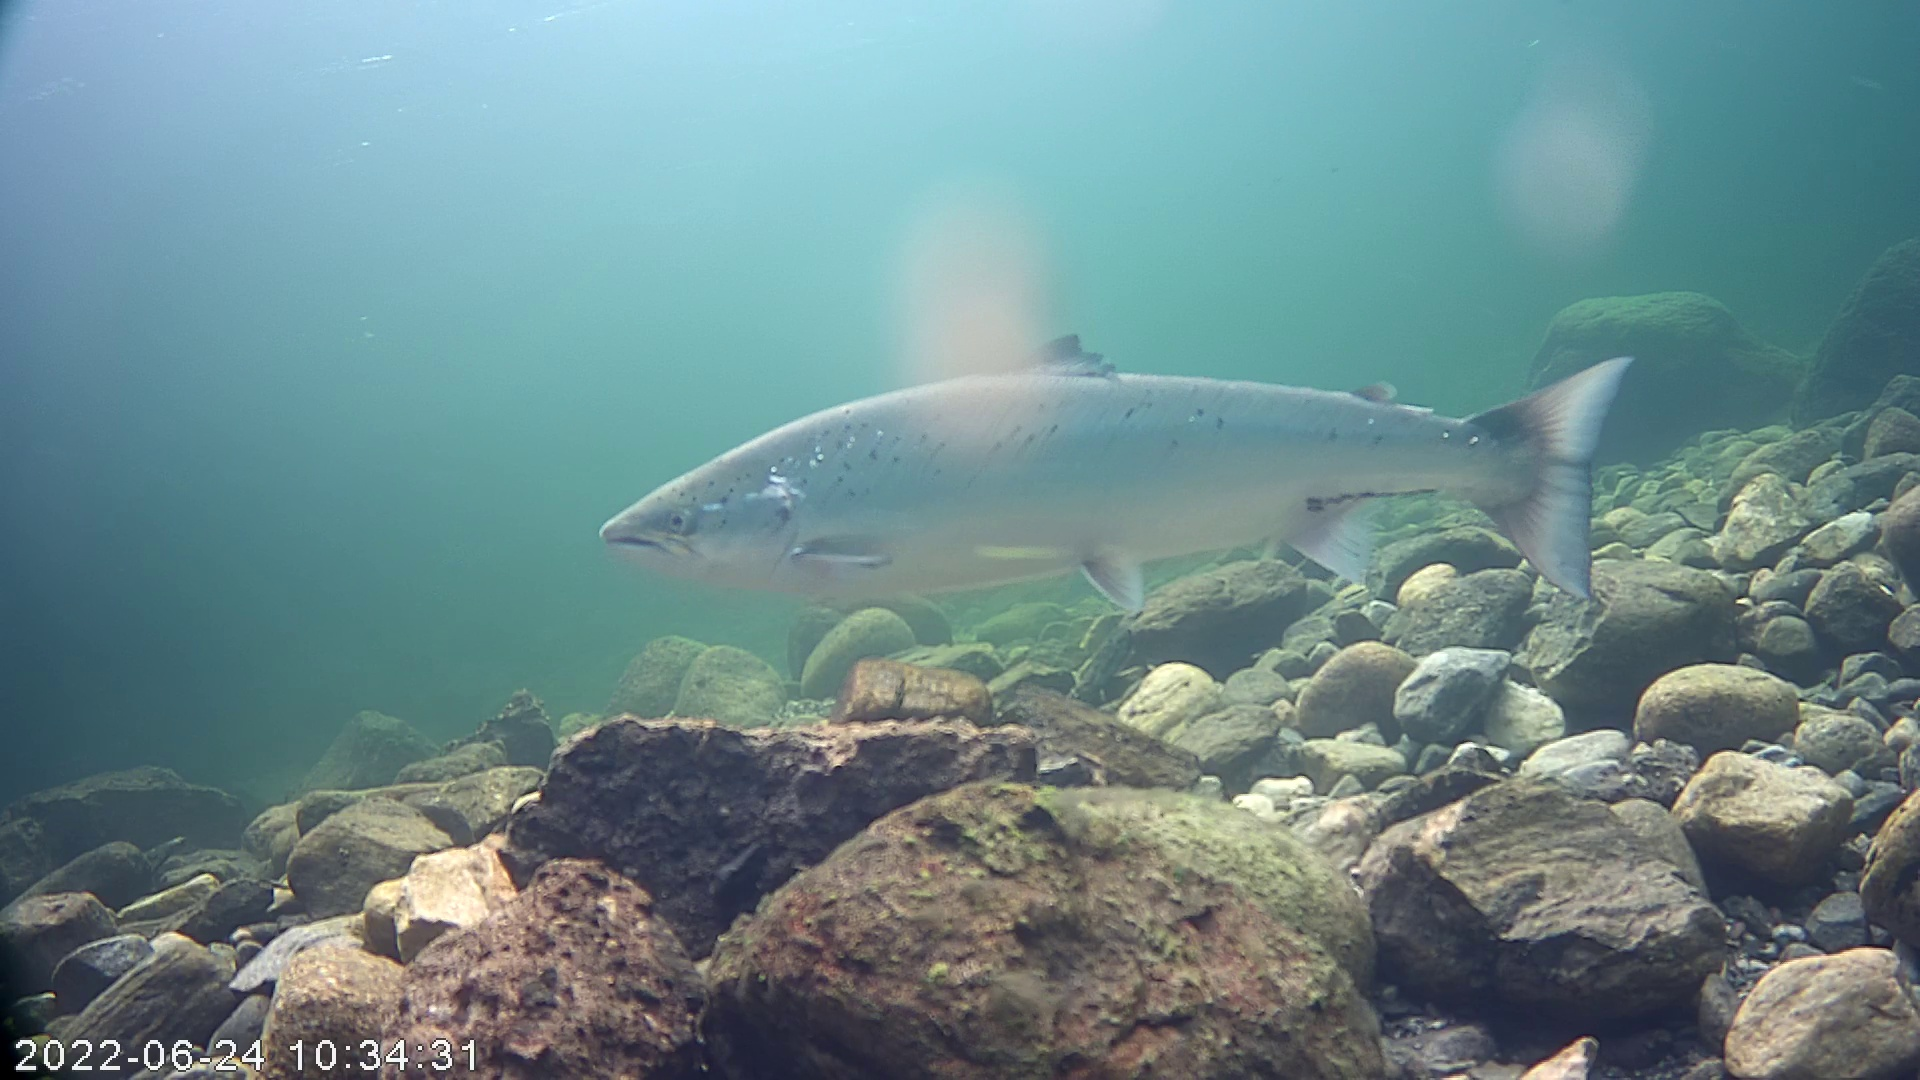salmon: (596, 328, 1635, 618)
